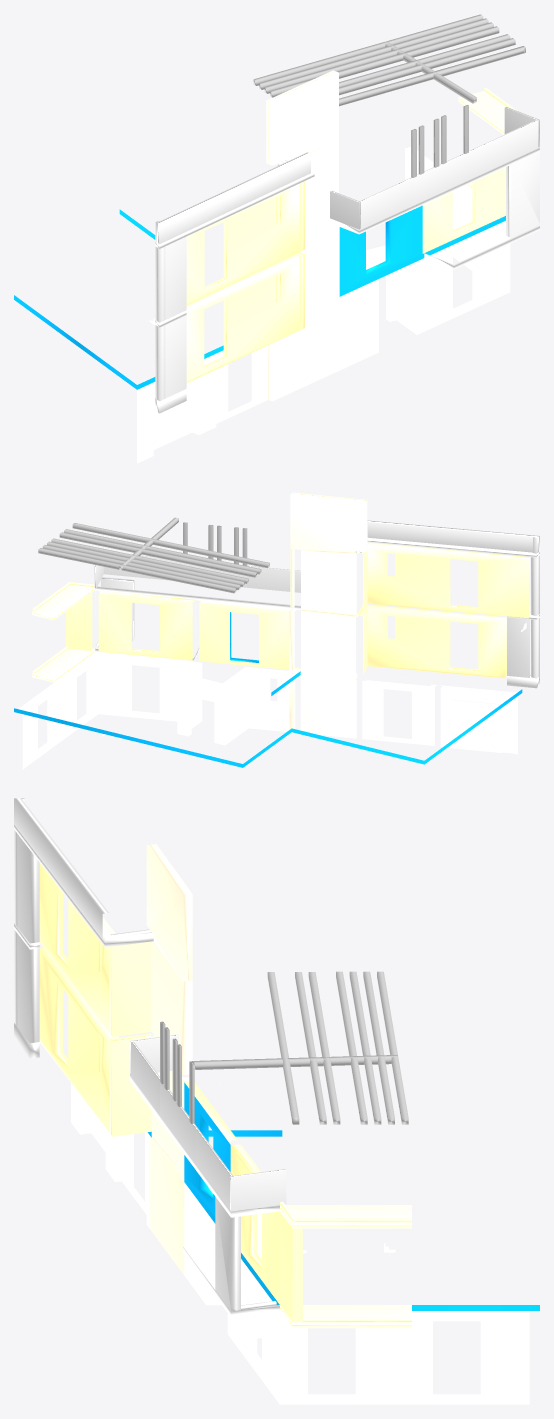
File: houseExteriorGLB.glb
3 renders of one model, top to bottom at view 1: azimuth 30°, elevation 25°; view 2: azimuth 150°, elevation 25°; view 3: azimuth 270°, elevation 25°, orthographic. The views are drawn at different scales.
Parts seen in each view (by area): view 1: PaintFBXASC032FBXASC045FBXASC032SiennaFBXASC032Sand1; view 2: PaintFBXASC032FBXASC045FBXASC032SiennaFBXASC032Sand1; view 3: PaintFBXASC032FBXASC045FBXASC032SiennaFBXASC032Sand1.
Part boxes in pixels (x1,y1,x2,y2): PaintFBXASC032FBXASC045FBXASC032SiennaFBXASC032Sand1: (14,14,539,463); PaintFBXASC032FBXASC045FBXASC032SiennaFBXASC032Sand1: (14,492,539,769); PaintFBXASC032FBXASC045FBXASC032SiennaFBXASC032Sand1: (14,798,539,1404).
Size of the model in its own units: 20.8 by 12.28 by 15.43.
